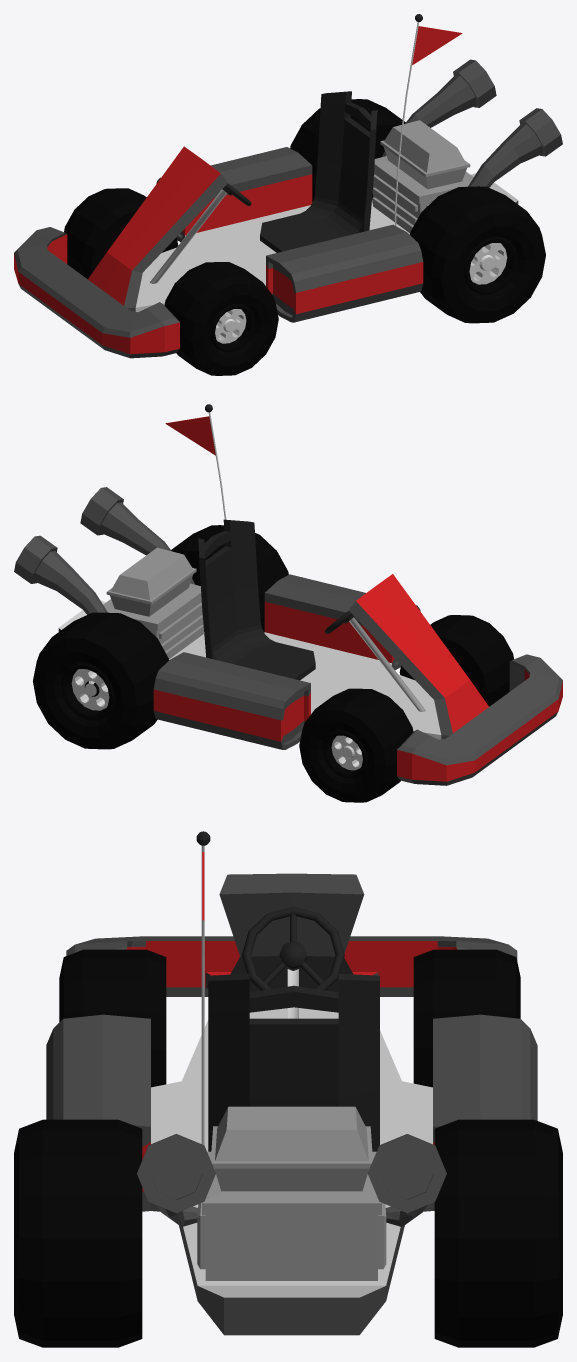
Rendered from Kart3.fbx.
3 views of the same model, one above another, from view 1: azimuth 30°, elevation 25°; view 2: azimuth 150°, elevation 25°; view 3: azimuth 270°, elevation 25° (orthographic). The views are drawn at different scales.
Parts seen in each view (by area): view 1: Flag.002, Flag.001, Flag.005; view 2: Flag.002, Flag.001, Flag.005; view 3: Flag.002, Flag.001, Flag.005.
Part boxes in pixels (x1,y1,x2,y2): Flag.002: (14, 14, 562, 358); Flag.001: (290, 99, 545, 323); Flag.005: (64, 188, 278, 375); Flag.002: (14, 404, 562, 785); Flag.001: (33, 525, 288, 749); Flag.005: (299, 615, 513, 802); Flag.002: (46, 831, 537, 1335); Flag.001: (14, 1119, 562, 1347); Flag.005: (59, 949, 520, 1087).
Size of the model in its own units: 318 by 184 by 187.
